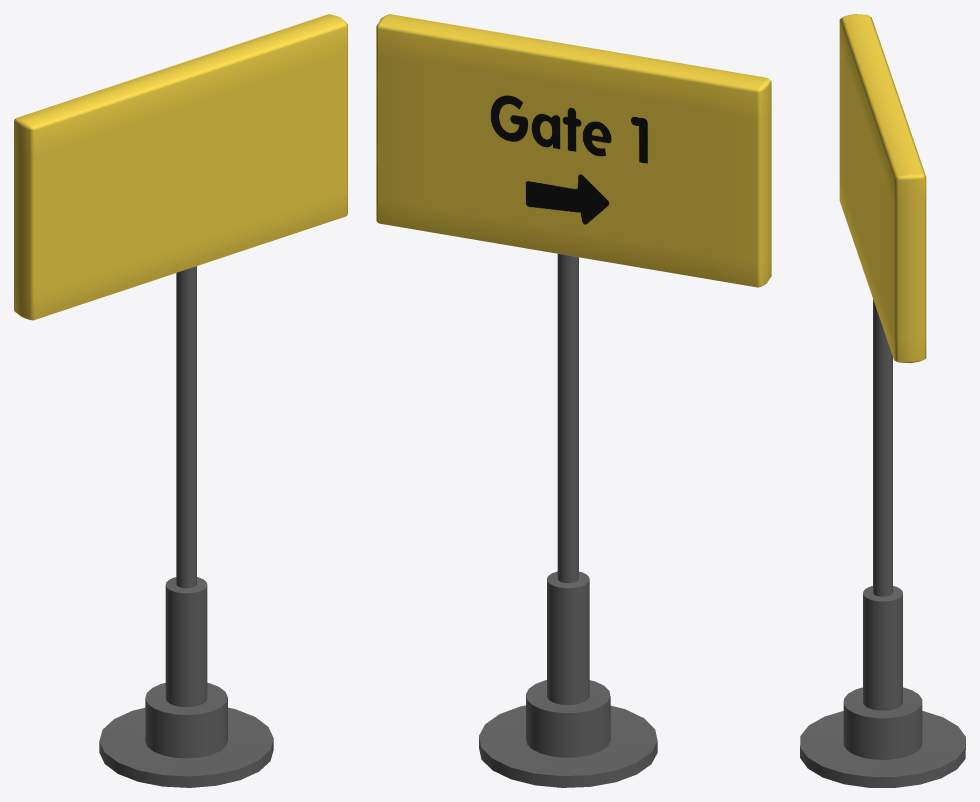
File: gate1.fbx
3 views of the same model, side by side, from view 1: azimuth 30°, elevation 25°; view 2: azimuth 150°, elevation 25°; view 3: azimuth 270°, elevation 25° (orthographic). The views are drawn at different scales.
Parts seen in each view (by area): view 1: pCube1, pCylinder1; view 2: pCube1, pCylinder1; view 3: pCylinder1, pCube1.
Part boxes in pixels (x1,y1,x2,y2): pCube1: (14,14,347,320); pCylinder1: (99,266,273,787); pCube1: (376,14,771,287); pCylinder1: (479,254,657,787); pCylinder1: (800,299,965,787); pCube1: (839,14,926,363).
Bounding box in the file's own units: 4.02 × 7.5 × 1.72.
